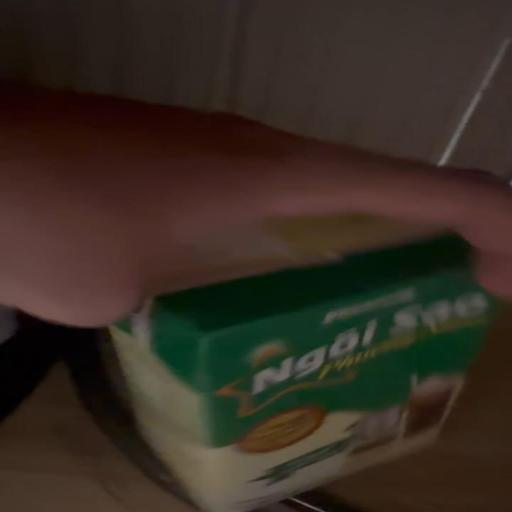ly_giay: (110, 236, 496, 512)
